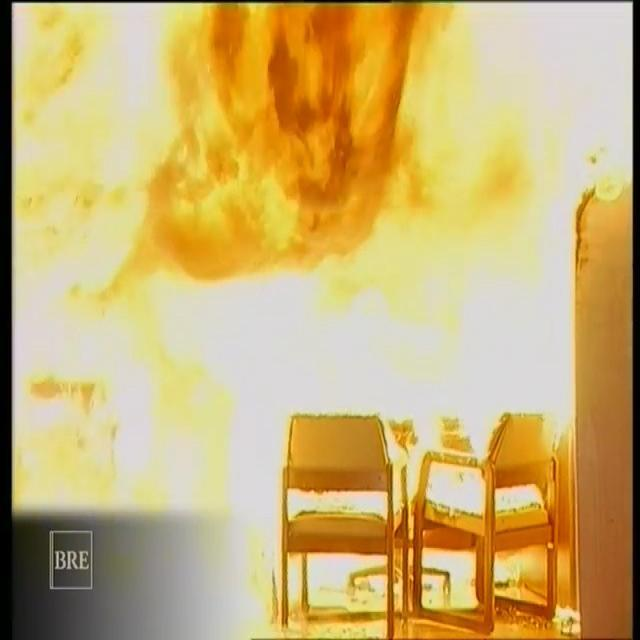Fire: (6, 2, 634, 440)
